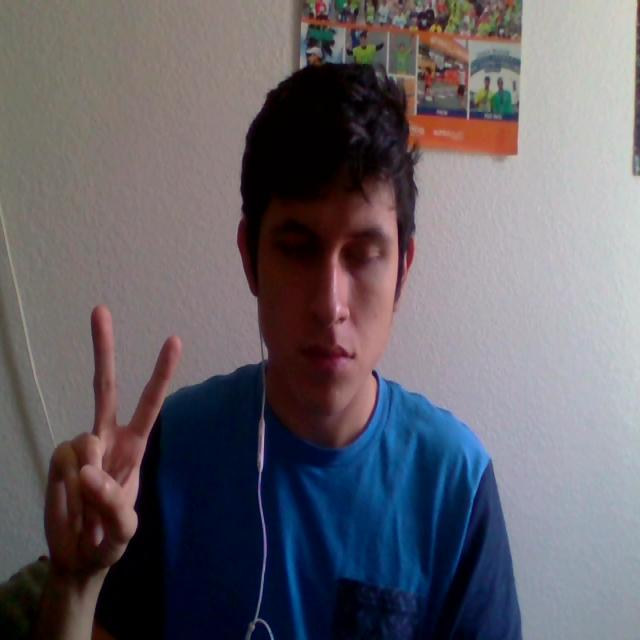V: (34, 292, 204, 598)
